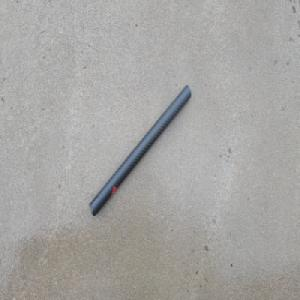LuggagePart: (89, 83, 191, 218)
